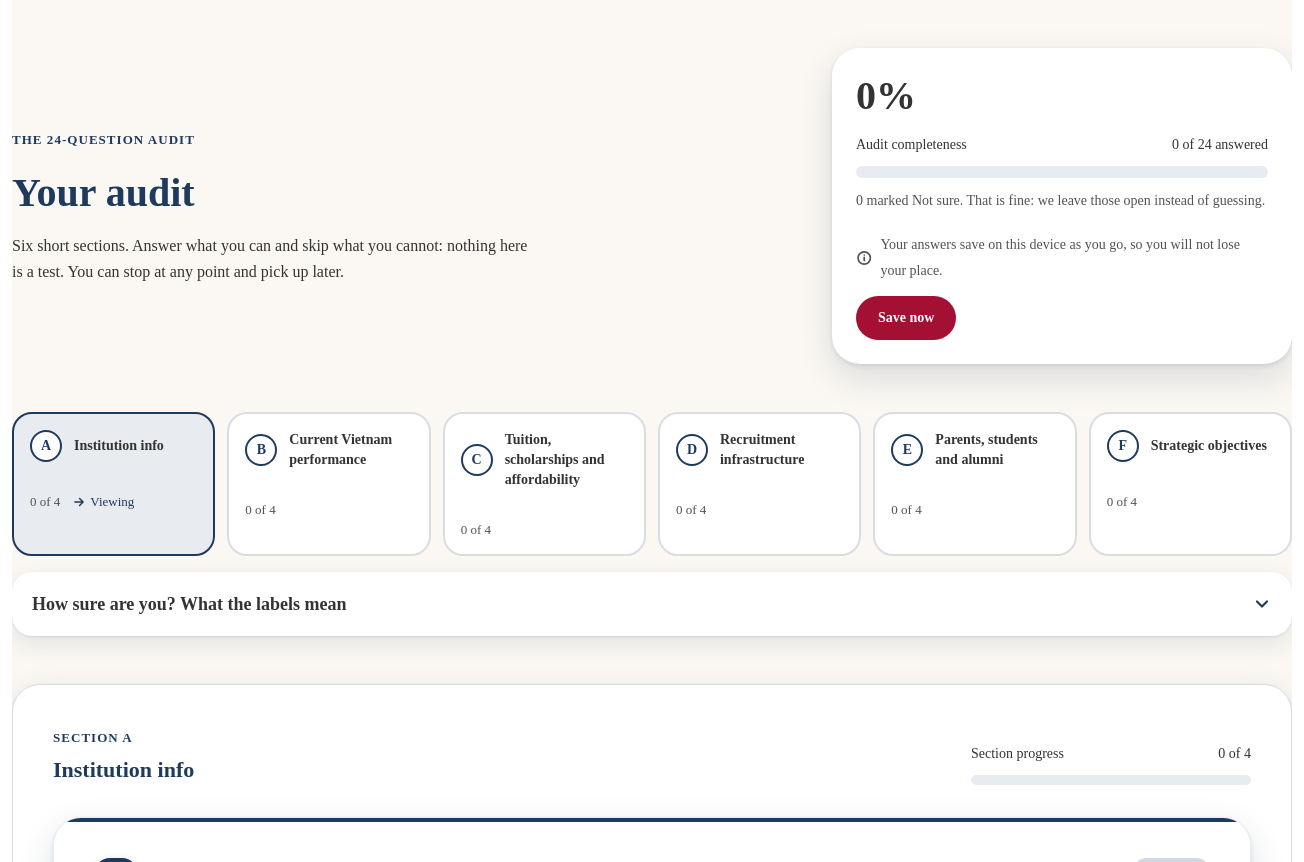
Test case: IntakePage sections › moves between sections with the section buttons
This screenshot has width=1304, height=862.
What coordinates should you click on to do the following:
click the button "D Recruitment infrastructure 0 of 4"
I would click on:
 (760, 484)
Its box is [658,412,861,556].
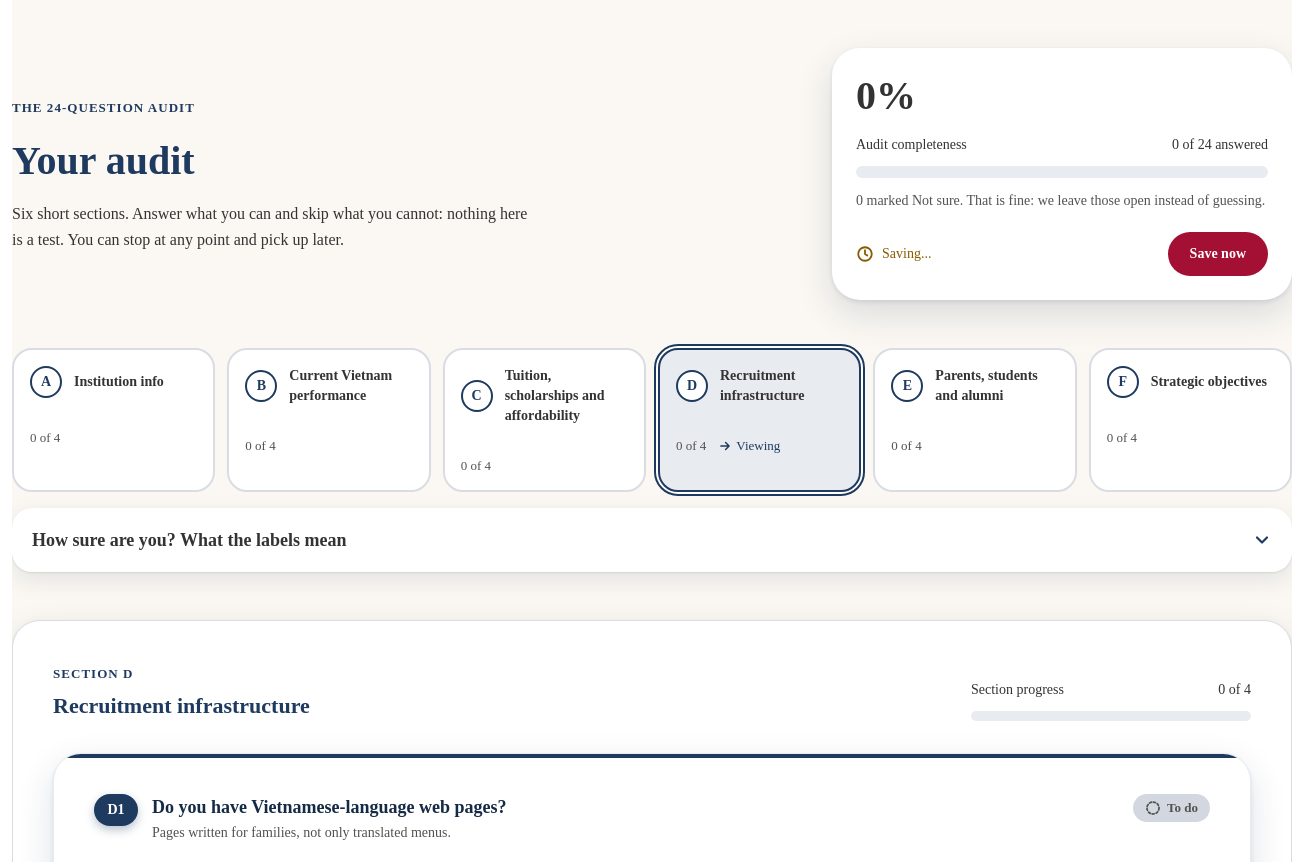
expect the heading "Recruitment infrastructure" is shown: met, box [53,691,310,721]
